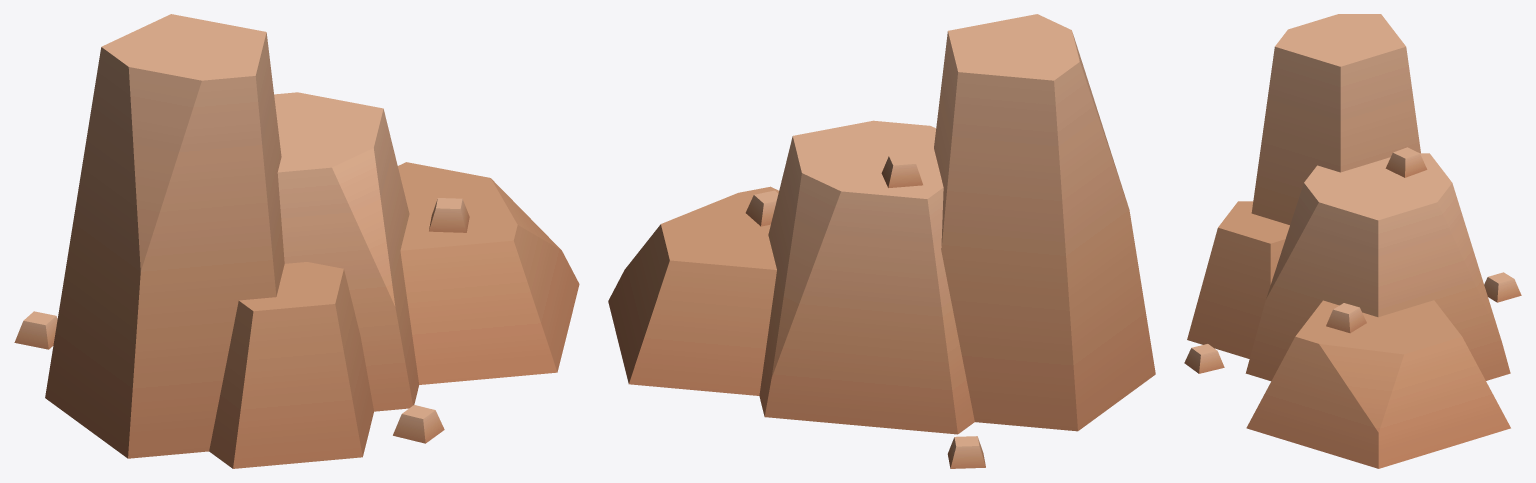
File: survival-kit-rock-sand-c.glb
The picture shows the model from 3 angles, left to right: view 1: azimuth 30°, elevation 25°; view 2: azimuth 150°, elevation 25°; view 3: azimuth 270°, elevation 25°; orthographic projection. The views are drawn at different scales.
Parts seen in each view (by area): view 1: rock-sand-c; view 2: rock-sand-c; view 3: rock-sand-c.
Part boxes in pixels (x1=…): rock-sand-c: x1=14, y1=14, x2=579, y2=468; rock-sand-c: x1=608, y1=14, x2=1155, y2=468; rock-sand-c: x1=1184, y1=14, x2=1521, y2=468.
Bounding box in the file's own units: 0.7837 × 0.51 × 0.5691.
1 material, 1 textured.
